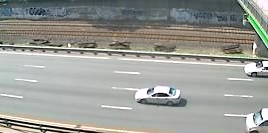car: (131, 83, 186, 109), (242, 57, 268, 77)
